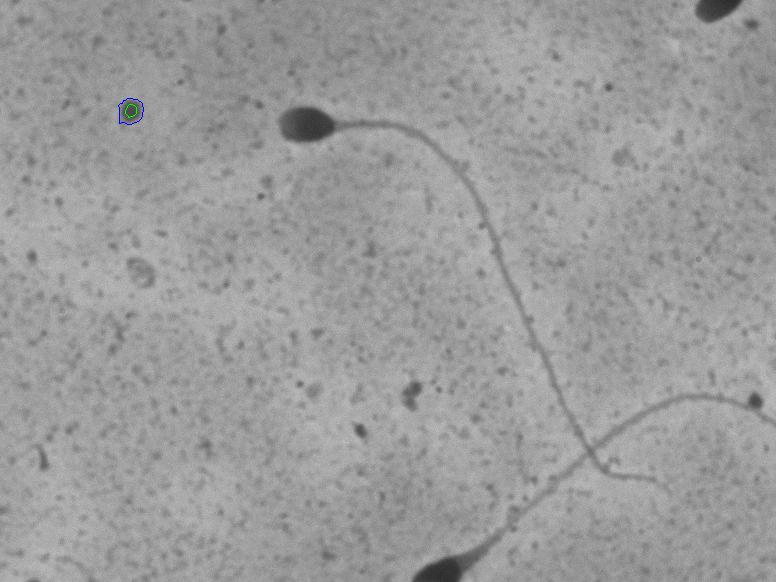Normal: (262, 91, 682, 513)
